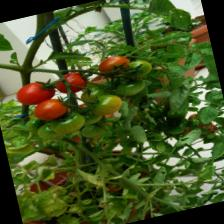tomato: (13, 76, 61, 110), (51, 68, 92, 98), (95, 53, 133, 80)
